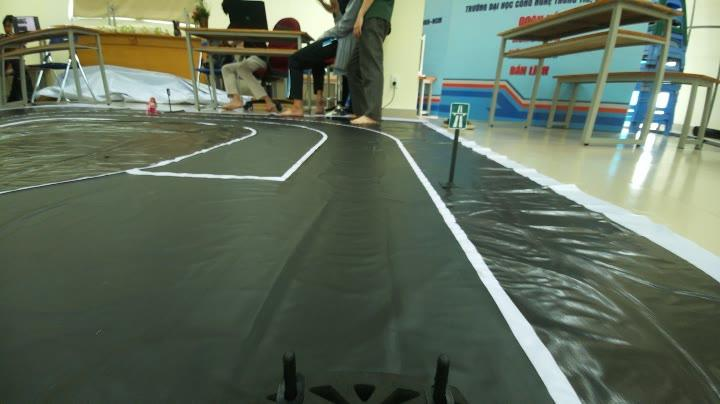highway_entry: (446, 97, 472, 133)
